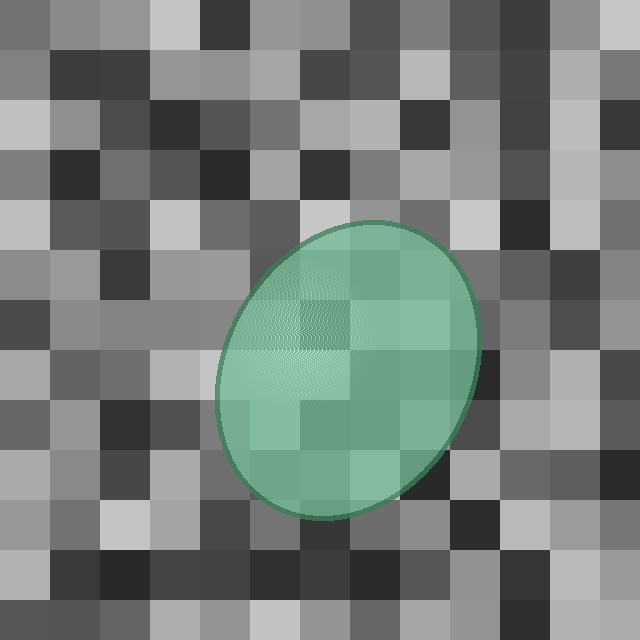lens: (217, 223, 479, 517)
